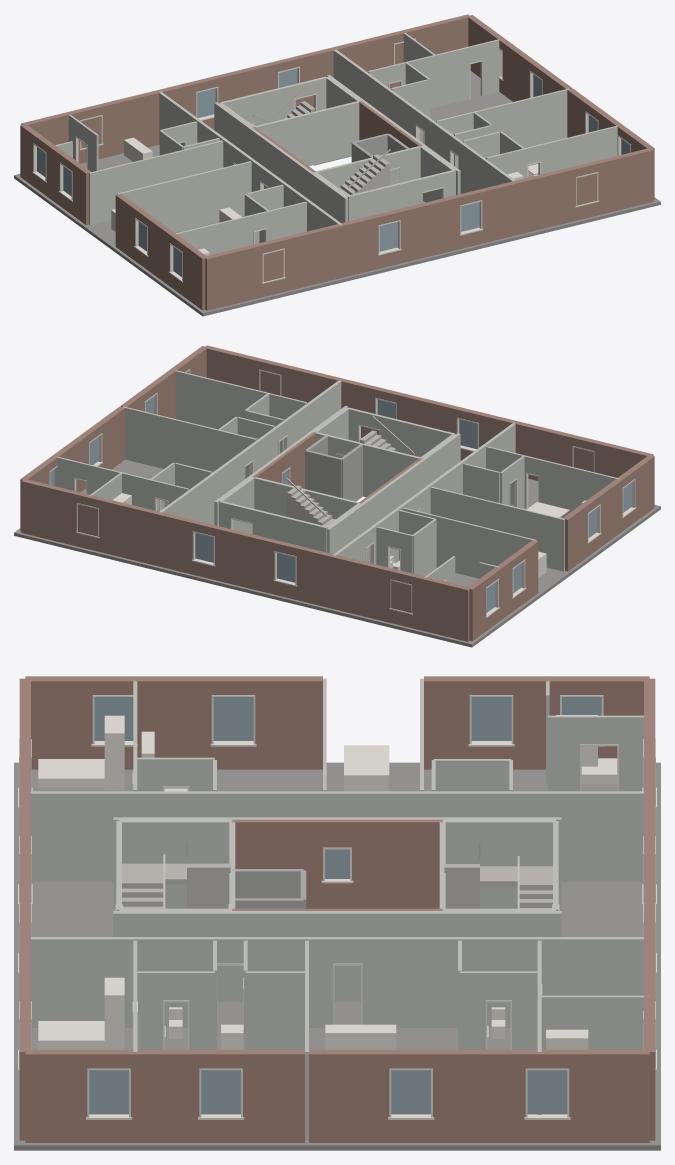
The model's file is floor_05.glb.
3 renders of one model, top to bottom at view 1: azimuth 30°, elevation 25°; view 2: azimuth 150°, elevation 25°; view 3: azimuth 270°, elevation 25°, orthographic. The views are drawn at different scales.
Parts seen in each view (by area): view 1: F05_walls-col, F05_walls_brick-col, F05_slabs-col, F05_trim, F05_glazing-col, F05_stairs, F05_furniture-col, F05_walls_conc-col; view 2: F05_walls-col, F05_walls_brick-col, F05_slabs-col, F05_trim, F05_glazing-col, F05_walls_conc-col, F05_stairs, F05_furniture-col; view 3: F05_walls-col, F05_walls_brick-col, F05_slabs-col, F05_furniture-col, F05_glazing-col, F05_stairs, F05_trim, F05_walls_conc-col.
Boxes of the visible parts, x1=… form: F05_walls-col: x1=55, y1=32, x2=619, y2=271; F05_walls_brick-col: x1=20, y1=14, x2=654, y2=310; F05_slabs-col: x1=14, y1=71, x2=660, y2=316; F05_trim: x1=32, y1=38, x2=630, y2=283; F05_glazing-col: x1=37, y1=68, x2=629, y2=276; F05_stairs: x1=248, y1=86, x2=390, y2=195; F05_furniture-col: x1=111, y1=137, x2=538, y2=255; F05_walls_conc-col: x1=351, y1=133, x2=409, y2=162; F05_walls-col: x1=54, y1=370, x2=619, y2=583; F05_walls_brick-col: x1=20, y1=345, x2=654, y2=641; F05_slabs-col: x1=14, y1=438, x2=660, y2=647; F05_trim: x1=49, y1=369, x2=636, y2=617; F05_glazing-col: x1=50, y1=396, x2=631, y2=612; F05_walls_conc-col: x1=305, y1=435, x2=362, y2=501; F05_stairs: x1=286, y1=415, x2=421, y2=526; F05_furniture-col: x1=112, y1=471, x2=586, y2=577; F05_walls-col: x1=27, y1=678, x2=648, y2=1140; F05_walls_brick-col: x1=19, y1=676, x2=655, y2=1142; F05_slabs-col: x1=14, y1=762, x2=660, y2=1150; F05_furniture-col: x1=38, y1=715, x2=617, y2=1049; F05_glazing-col: x1=89, y1=697, x2=601, y2=1114; F05_stairs: x1=122, y1=842, x2=552, y2=908; F05_trim: x1=18, y1=695, x2=656, y2=1119; F05_walls_conc-col: x1=232, y1=869, x2=306, y2=908.
Size of what is drawn, in the model's own units: 28 by 4.24 by 20.
